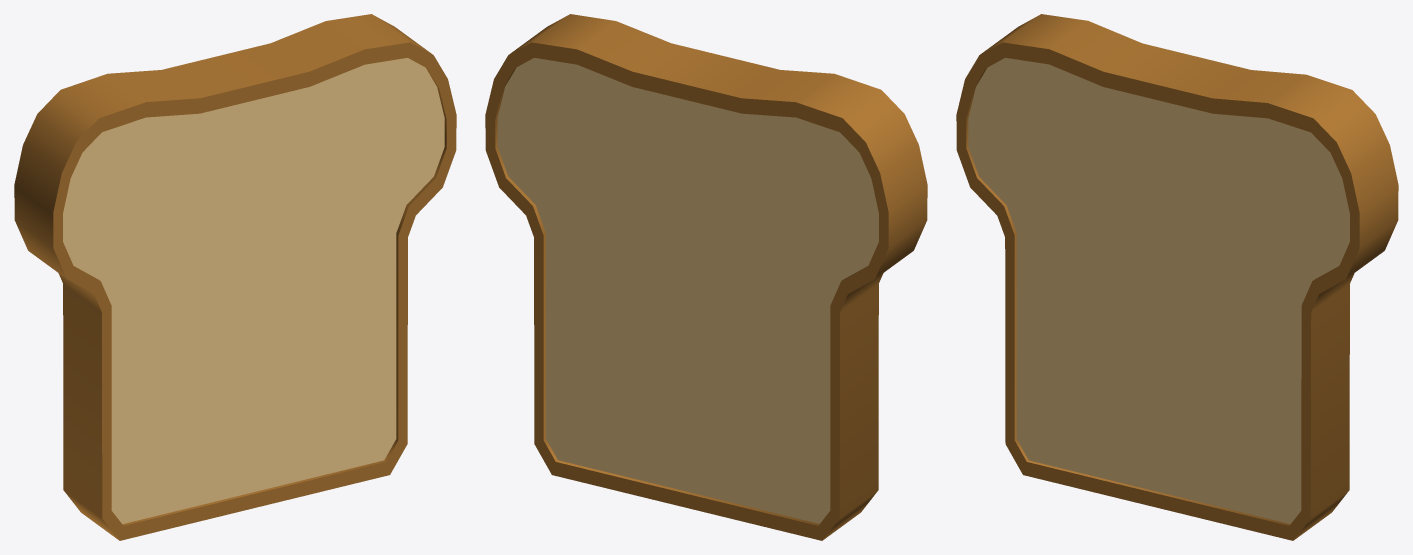
Rendered from toast.fbx.
3 renders of one model, left to right at view 1: azimuth 30°, elevation 25°; view 2: azimuth 150°, elevation 25°; view 3: azimuth 330°, elevation 25°, orthographic.
Parts seen in each view (by area): view 1: Plane, Plane.001; view 2: Plane, Plane.001; view 3: Plane, Plane.001.
Boxes of the visible parts, x1,y1,x2,y2 form: Plane: [63, 58, 444, 524]; Plane.001: [14, 14, 456, 540]; Plane: [497, 58, 878, 523]; Plane.001: [485, 14, 927, 540]; Plane: [968, 58, 1349, 524]; Plane.001: [956, 14, 1398, 540].
Bounding box in the file's own units: 94.46 × 96.75 × 15.74.
